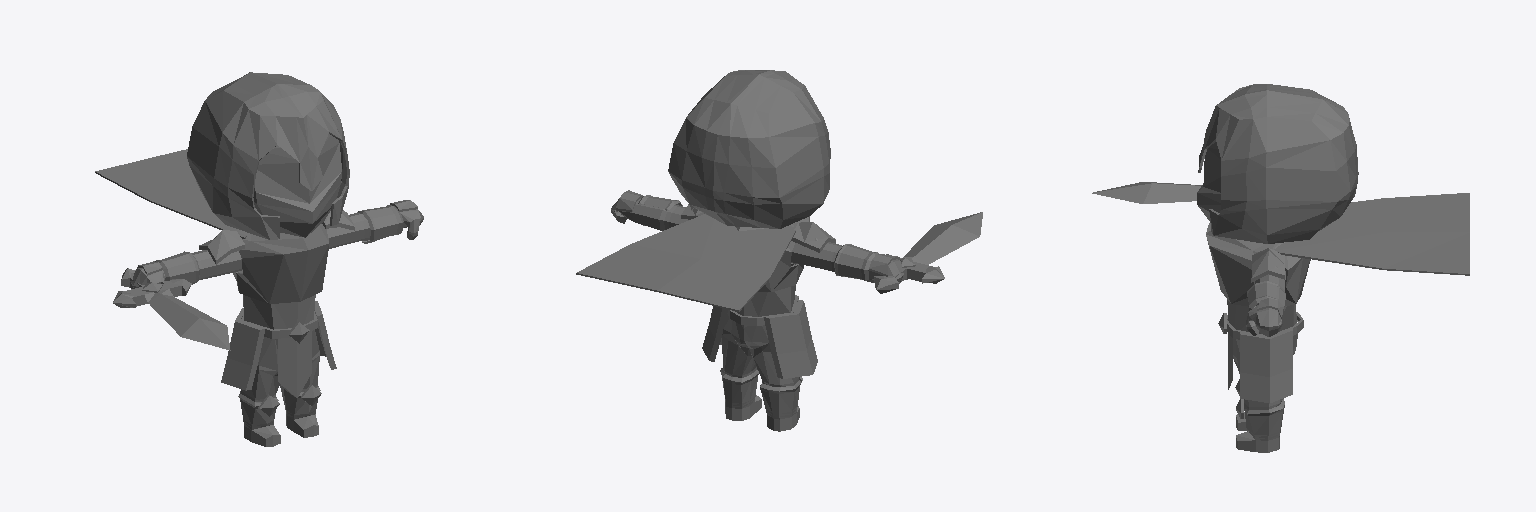
Rendered from TroopTpose.obj.
3 renders of one model, left to right at view 1: azimuth 30°, elevation 25°; view 2: azimuth 150°, elevation 25°; view 3: azimuth 270°, elevation 25°, orthographic.
Parts seen in each view (by area): view 1: soldier2_base_mesh:polySurface10, soldier2_base_mesh:sword; view 2: soldier2_base_mesh:polySurface10, soldier2_base_mesh:sword; view 3: soldier2_base_mesh:polySurface10, soldier2_base_mesh:sword.
Part boxes in pixels (x1,y1,x2,y2): soldier2_base_mesh:polySurface10: (95, 72, 423, 446); soldier2_base_mesh:sword: (113, 268, 230, 350); soldier2_base_mesh:polySurface10: (576, 70, 903, 431); soldier2_base_mesh:sword: (874, 212, 982, 293); soldier2_base_mesh:polySurface10: (1197, 84, 1469, 452); soldier2_base_mesh:sword: (1092, 182, 1201, 203).
Bounding box in the file's own units: 13.96 × 14.42 × 14.33.